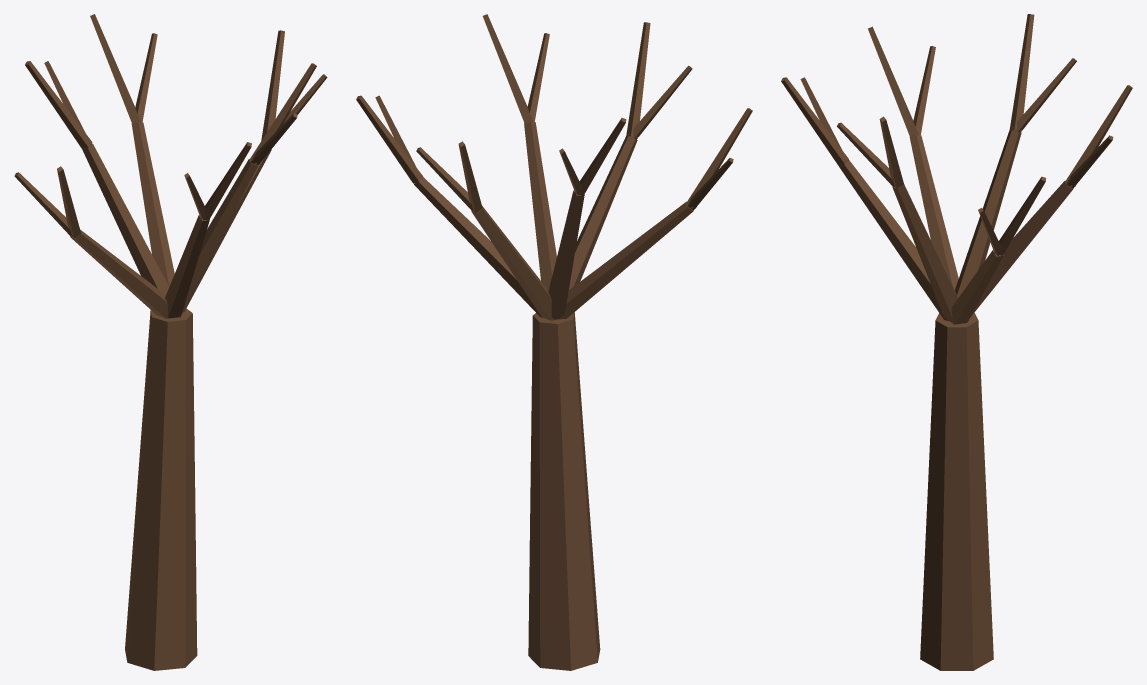
Rendered from VG_Tree_Bare.fbx.
The picture shows the model from 3 angles, left to right: view 1: azimuth 30°, elevation 25°; view 2: azimuth 150°, elevation 25°; view 3: azimuth 270°, elevation 25°; orthographic projection.
Visible parts, largest first — view 1: VG_Tree_Bare_Mesh; view 2: VG_Tree_Bare_Mesh; view 3: VG_Tree_Bare_Mesh.
Part boxes in pixels (x1,y1,x2,y2): VG_Tree_Bare_Mesh: (14,14,327,670); VG_Tree_Bare_Mesh: (356,14,752,670); VG_Tree_Bare_Mesh: (781,14,1132,670).
Size of the model in its own units: 2.48 by 4.18 by 2.23.
